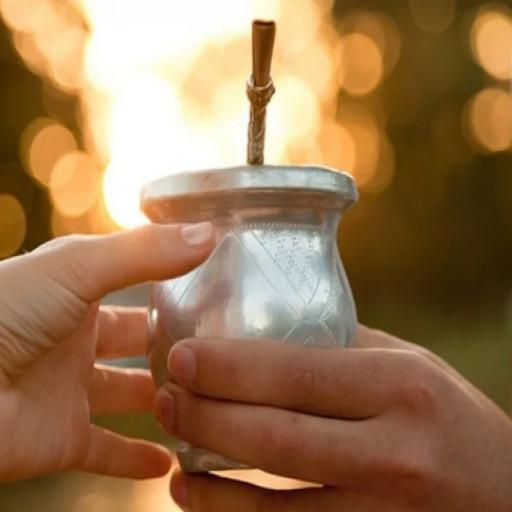mate: (140, 165, 358, 386)
